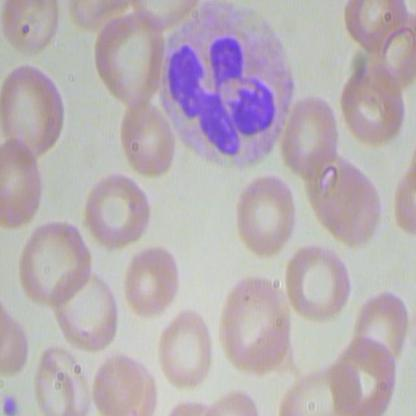RBC: (217, 274, 297, 379), (275, 240, 356, 329), (223, 172, 296, 268), (15, 217, 91, 304), (81, 169, 156, 255), (94, 17, 164, 107), (336, 61, 408, 146), (117, 92, 183, 182), (1, 67, 68, 154), (117, 242, 187, 319), (118, 244, 188, 320), (155, 305, 214, 391), (1, 136, 53, 229), (283, 93, 338, 180)
WBC: (158, 1, 298, 170)
